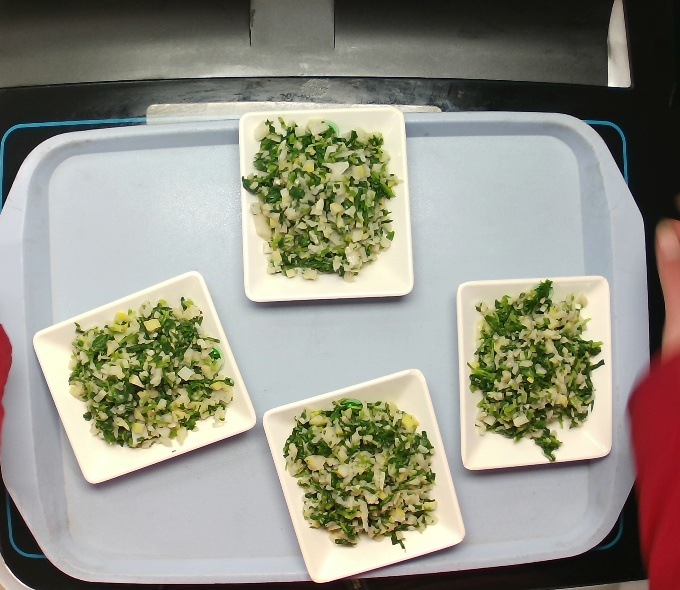wcq-MaLanTouBanChunSun: (56, 294, 244, 454), (246, 110, 395, 291), (453, 285, 609, 456), (277, 394, 449, 548)
